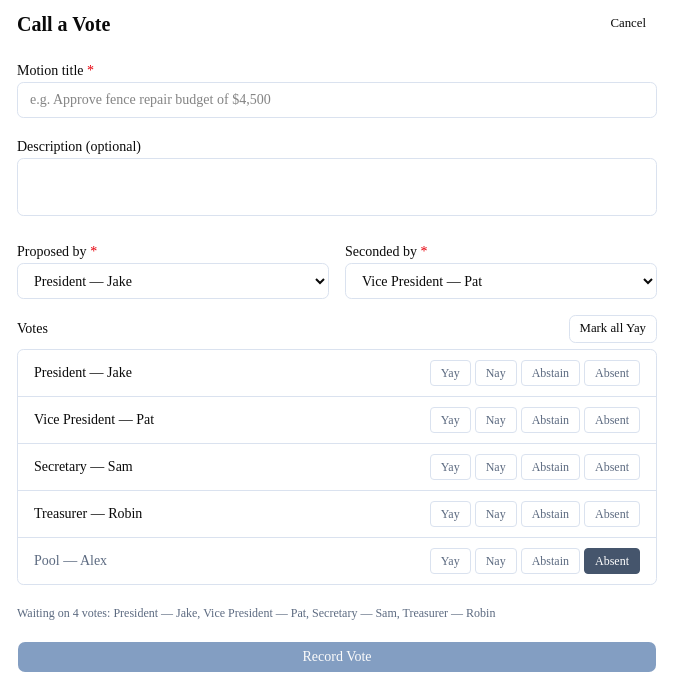
VotePanel › surfaces a failure instead of pretending the vote was recorded
Type "Approve the budget" into the field labelled "Motion title *". click: (337, 100)
box: [17,82,657,118]
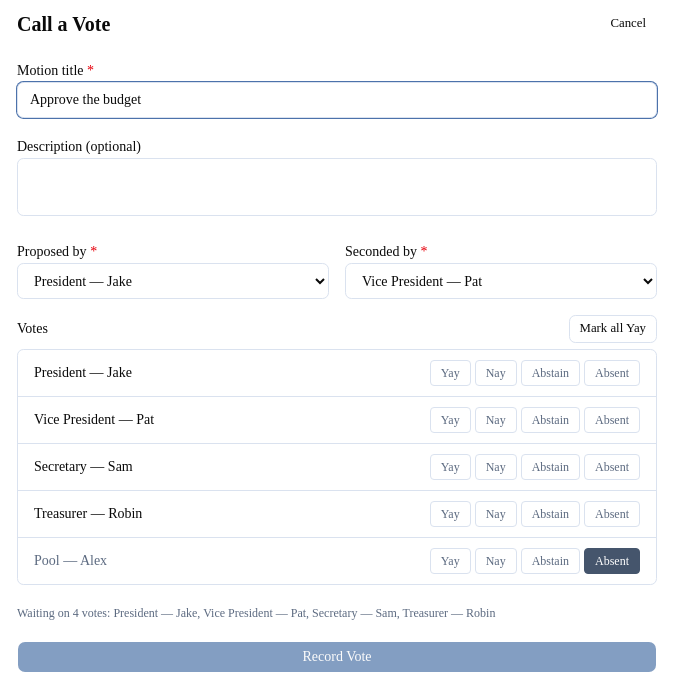
Click the button "Mark all Yay". click: (613, 329)
box: [568,315,657,343]
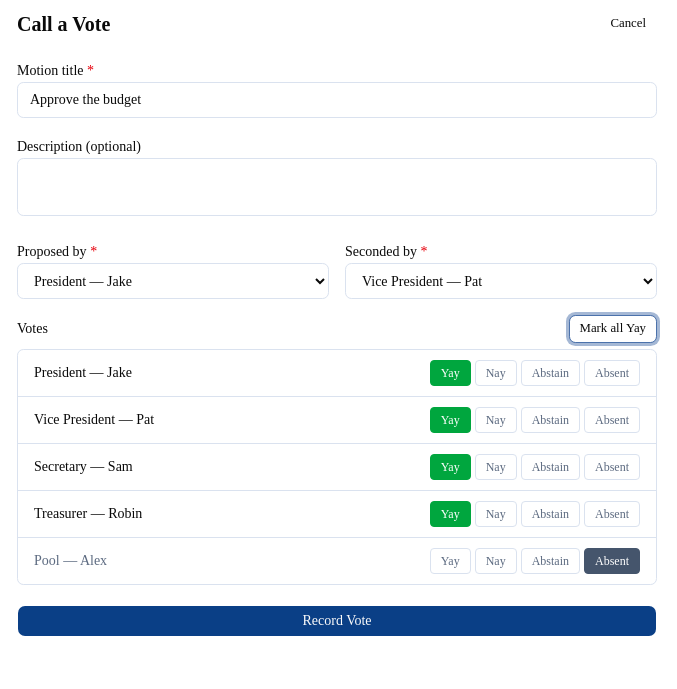
Click the button "Record Vote". click: (337, 621)
box: [17,605,657,637]
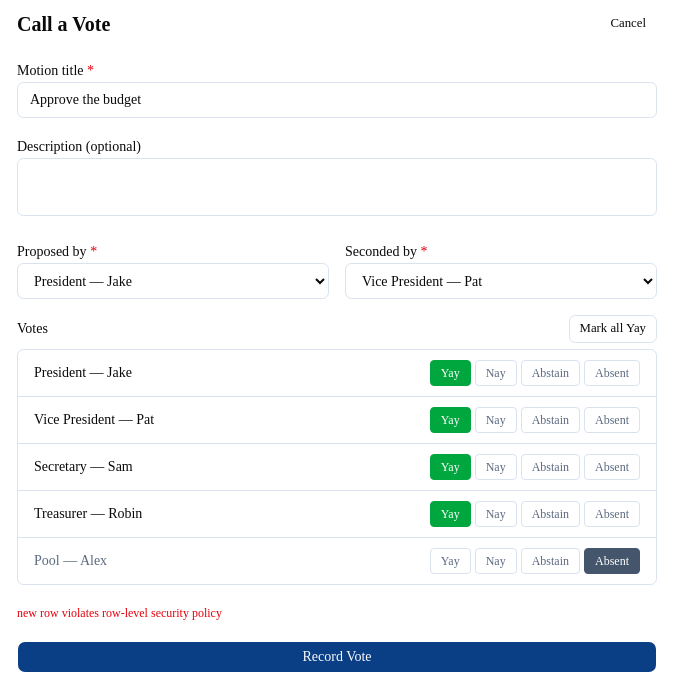
Check: the message shows "row-level security", box [17,606,222,620]
